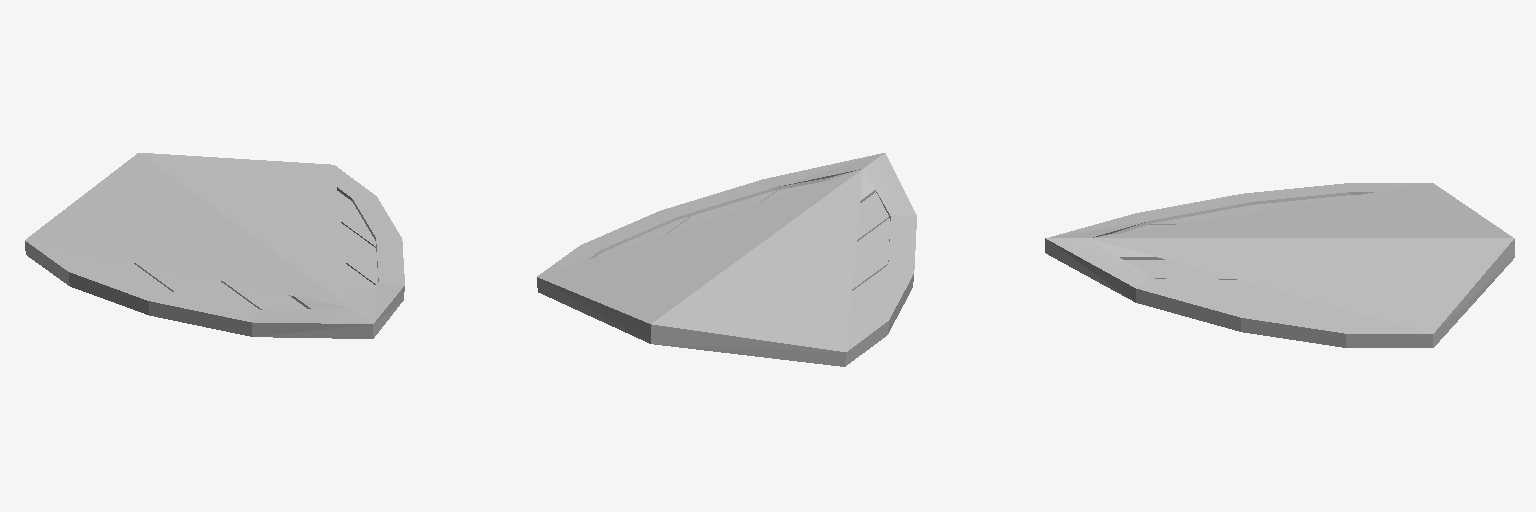
Rendered from shield.obj.
3 views of the same model, side by side, from view 1: azimuth 30°, elevation 25°; view 2: azimuth 150°, elevation 25°; view 3: azimuth 270°, elevation 25° (orthographic).
Parts seen in each view (by area): view 1: Cylinder; view 2: Cylinder; view 3: Cylinder.
Boxes of the visible parts, x1,y1,x2,y2 form: Cylinder: [25, 153, 404, 338]; Cylinder: [537, 153, 916, 366]; Cylinder: [1045, 183, 1514, 347].
Bounding box in the file's own units: 2.78 × 0.302 × 3.65.